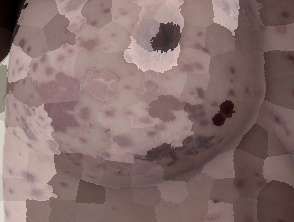SJS-TEN: (0, 0, 262, 214), (193, 145, 285, 222), (209, 0, 289, 38)
